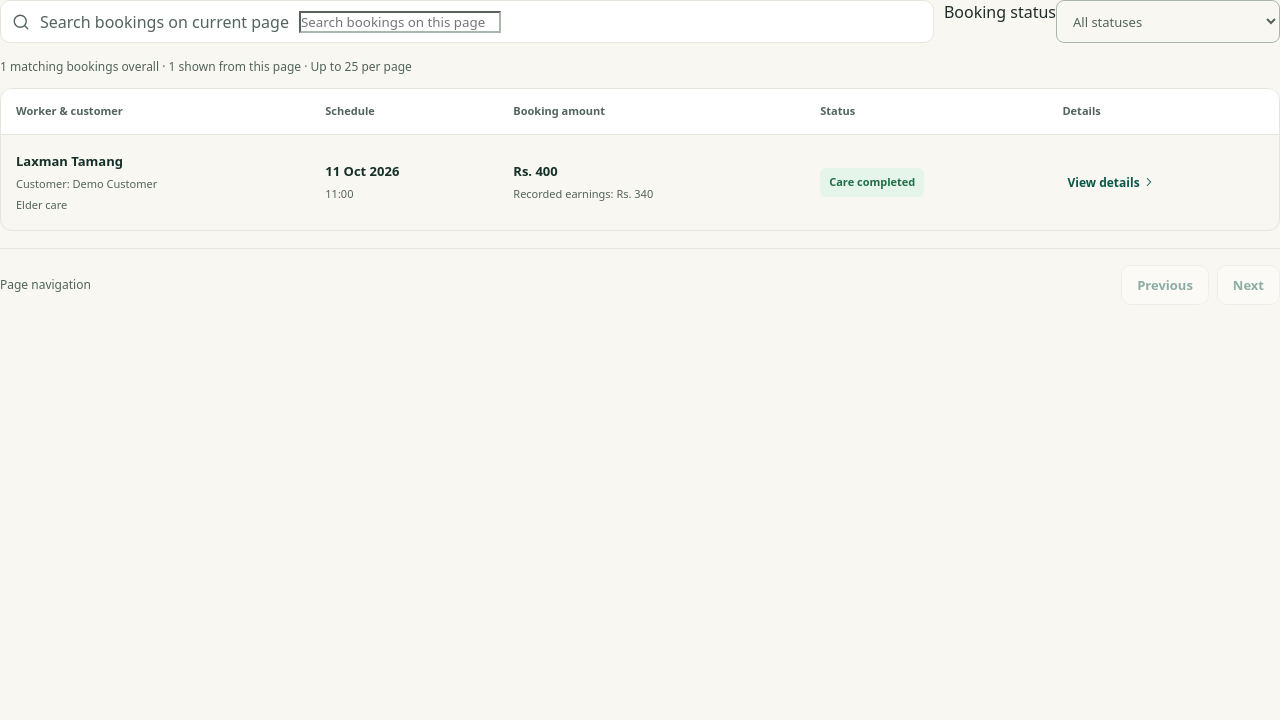
Test case: organization workspace redesign › booking list exposes read-only detail view and accessible close
expect the text "Laxman Tamang" is shown: met, box [16, 152, 123, 170]
Click the button "View details" at (1112, 182), box [1062, 167, 1161, 198]
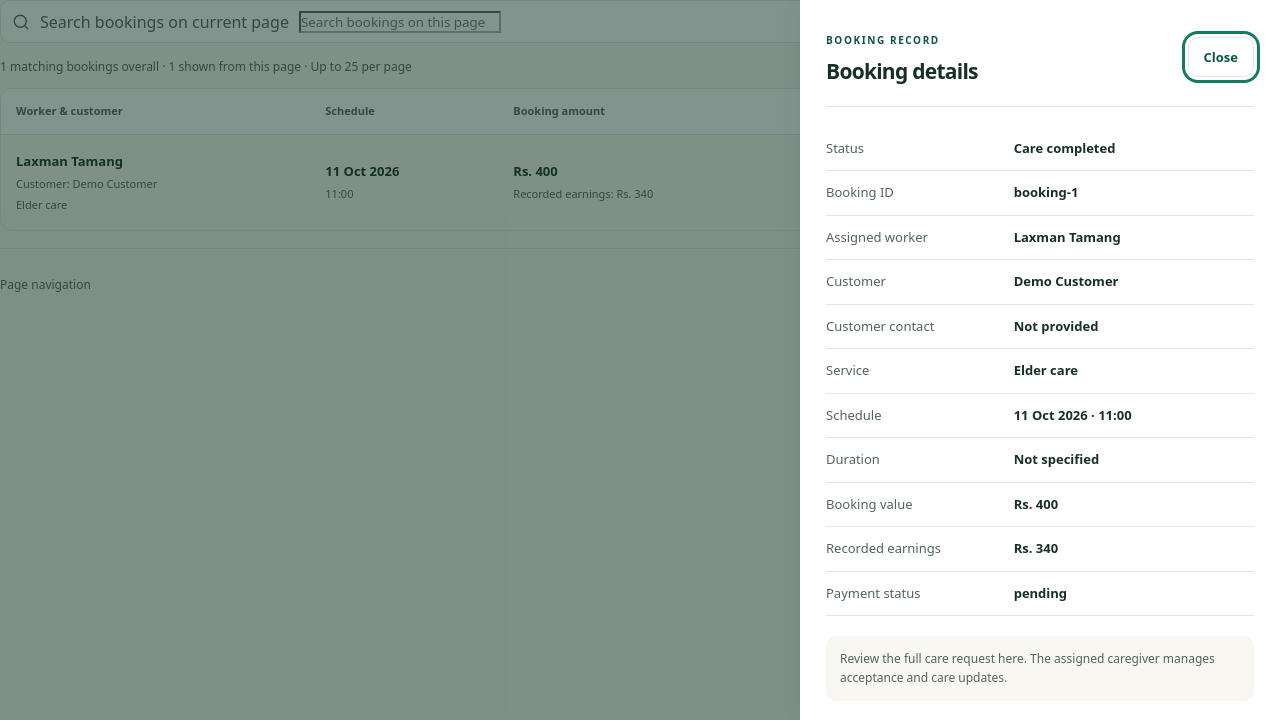
expect the text "booking-1" is shown: met, box [1014, 183, 1078, 201]
Click the button with aria-label "Close booking details" at (1221, 57), box [1188, 37, 1254, 77]
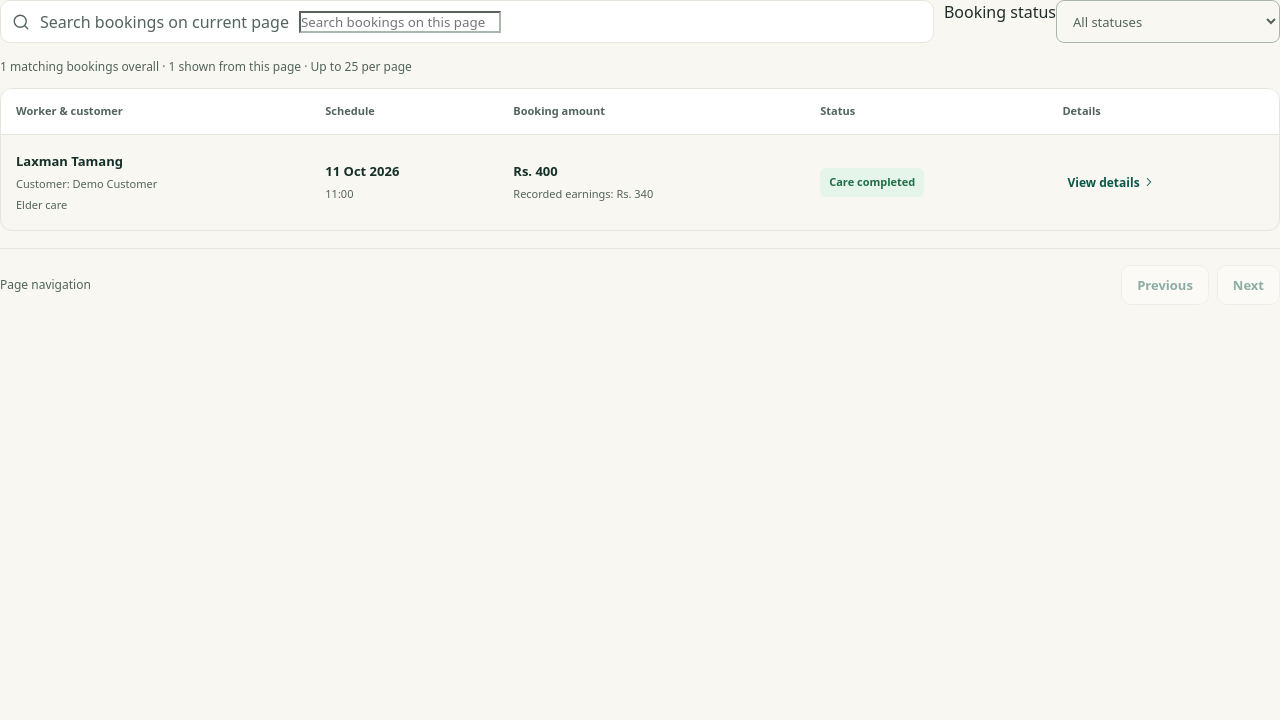
expect the dialog is gone: met
